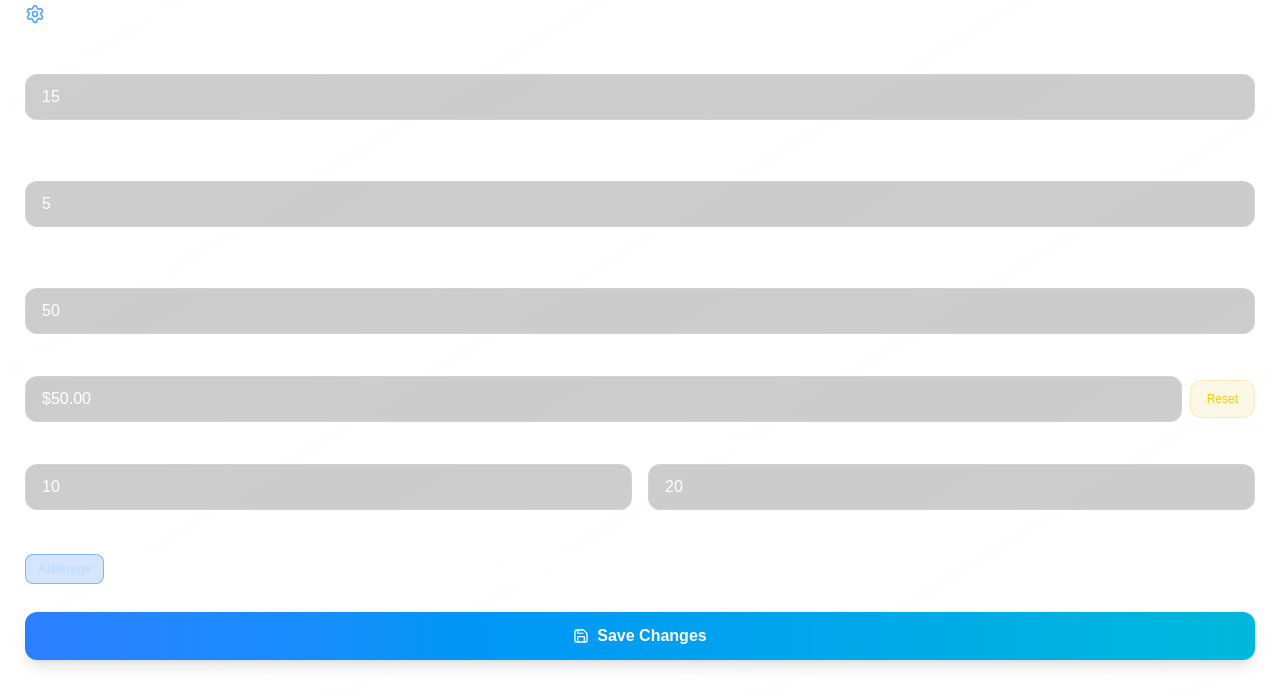
it: SettingsPanel › can reset wallet
The width and height of the screenshot is (1280, 695).
Check: the text "$50.00" is shown, box 25,376 -> 1182,422
Click the button "Reset": (1222, 399) 1190,380 -> 1255,418
(page scrolled)
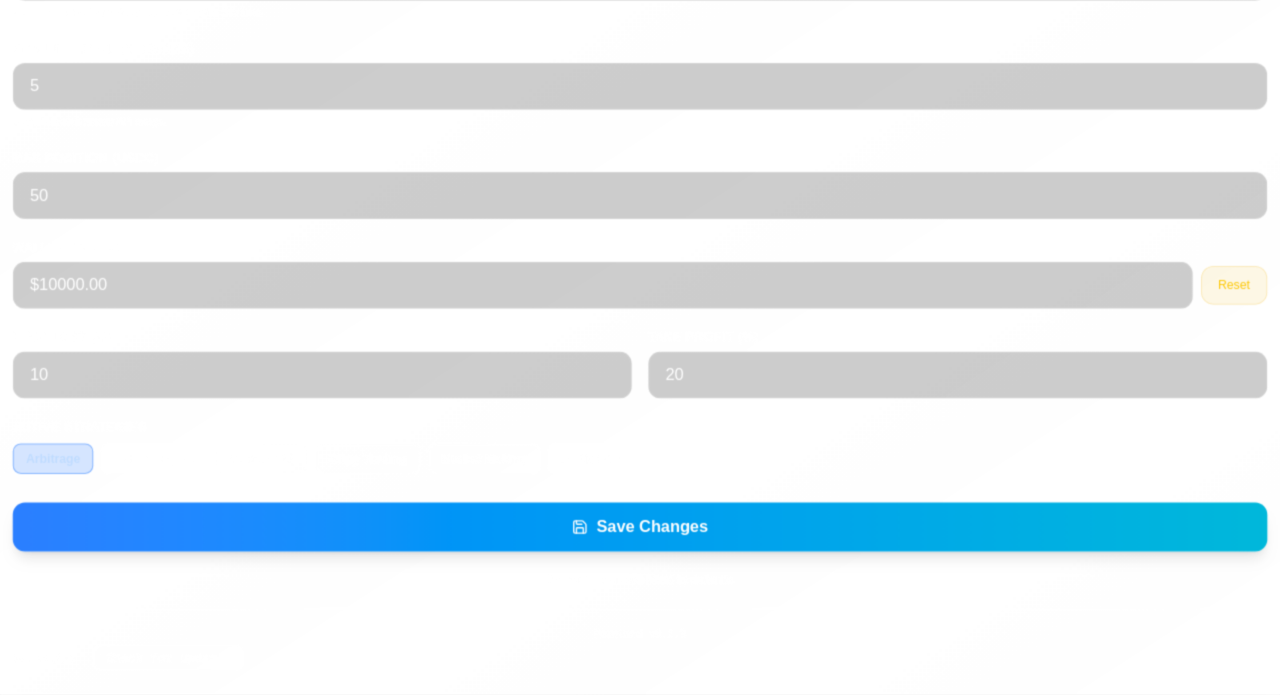
Check: the text "$10000.00" is shown, box 13,262 -> 1192,309
